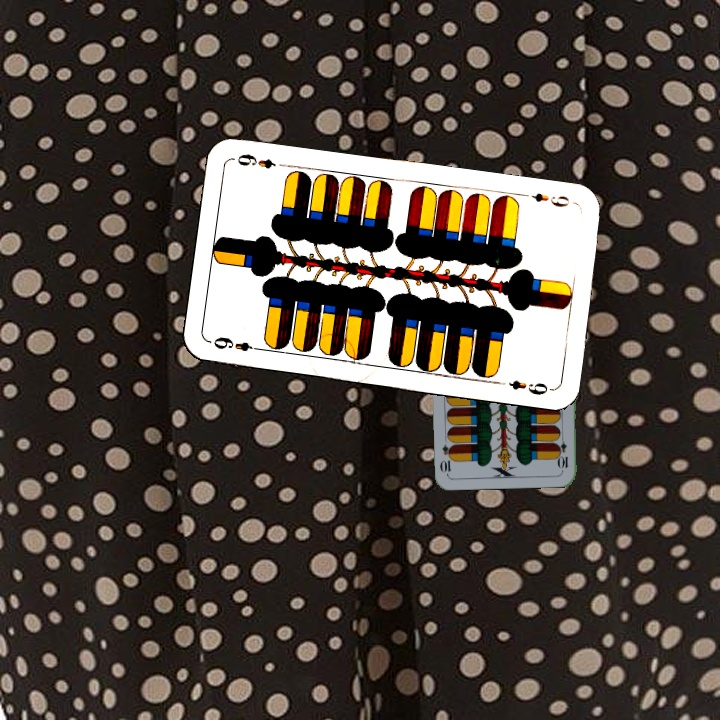E10: (556, 430, 571, 471)
E9: (519, 188, 578, 210), (209, 333, 265, 355)
